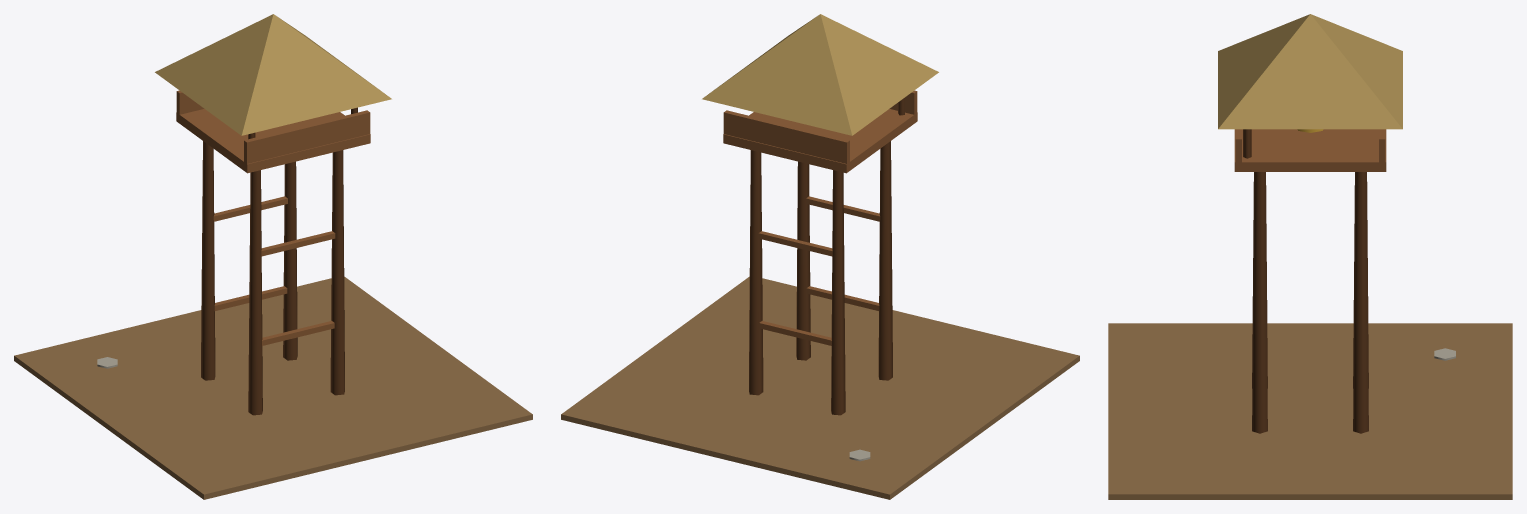
Rendered from building_menara_tinjau.glb.
3 views of the same model, side by side, from view 1: azimuth 30°, elevation 25°; view 2: azimuth 150°, elevation 25°; view 3: azimuth 270°, elevation 25° (orthographic). The views are drawn at different scales.
Parts seen in each view (by area): view 1: building_menara_tinjau; view 2: building_menara_tinjau; view 3: building_menara_tinjau.
Part boxes in pixels (x1,y1,x2,y2): building_menara_tinjau: (14,14,532,499); building_menara_tinjau: (561,14,1079,499); building_menara_tinjau: (1108,14,1512,499).
Bounding box in the file's own units: 0.96 × 1.05 × 0.96.
